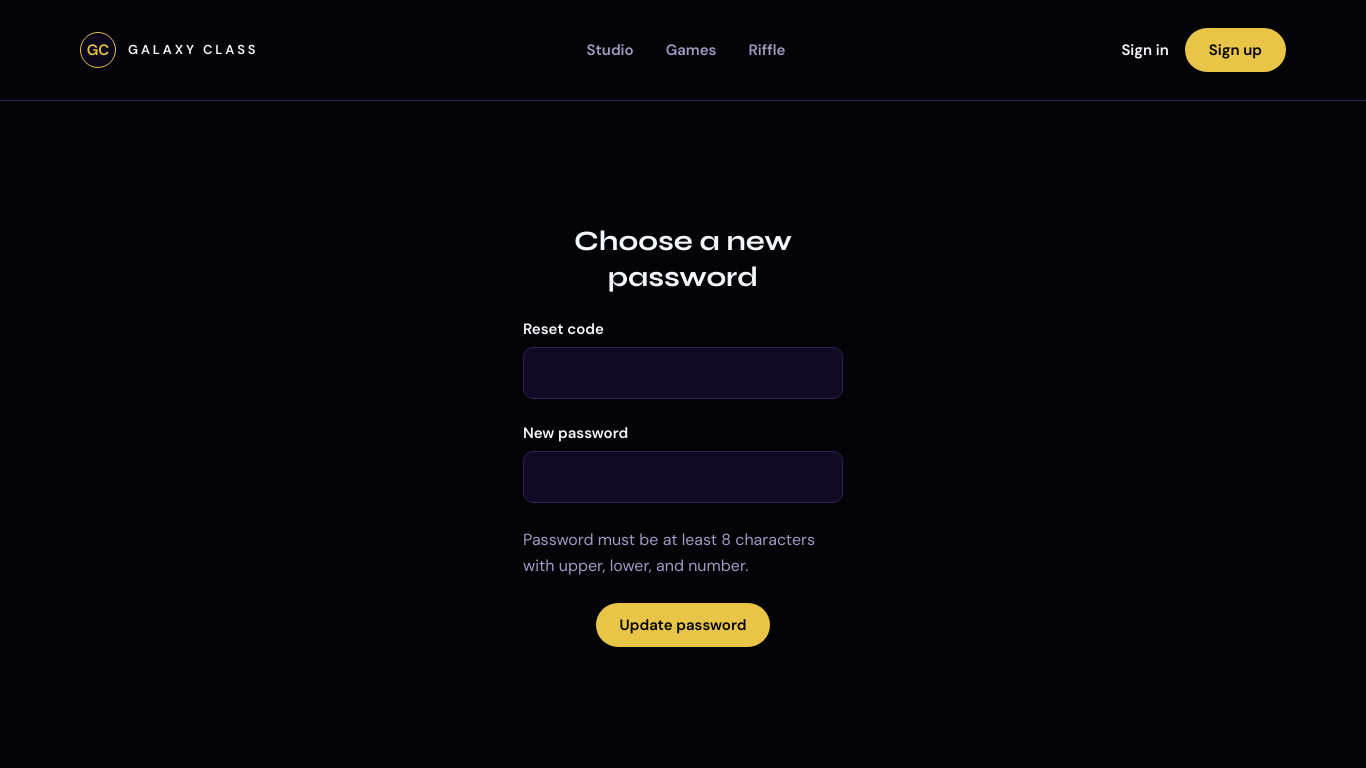
forgot and reset password › shows a validation error for a weak new password
The image size is (1366, 768).
Type "654321" into the field labelled "Reset code".
click(683, 372); type("654321")  # box x1=523 y1=346 x2=843 y2=398
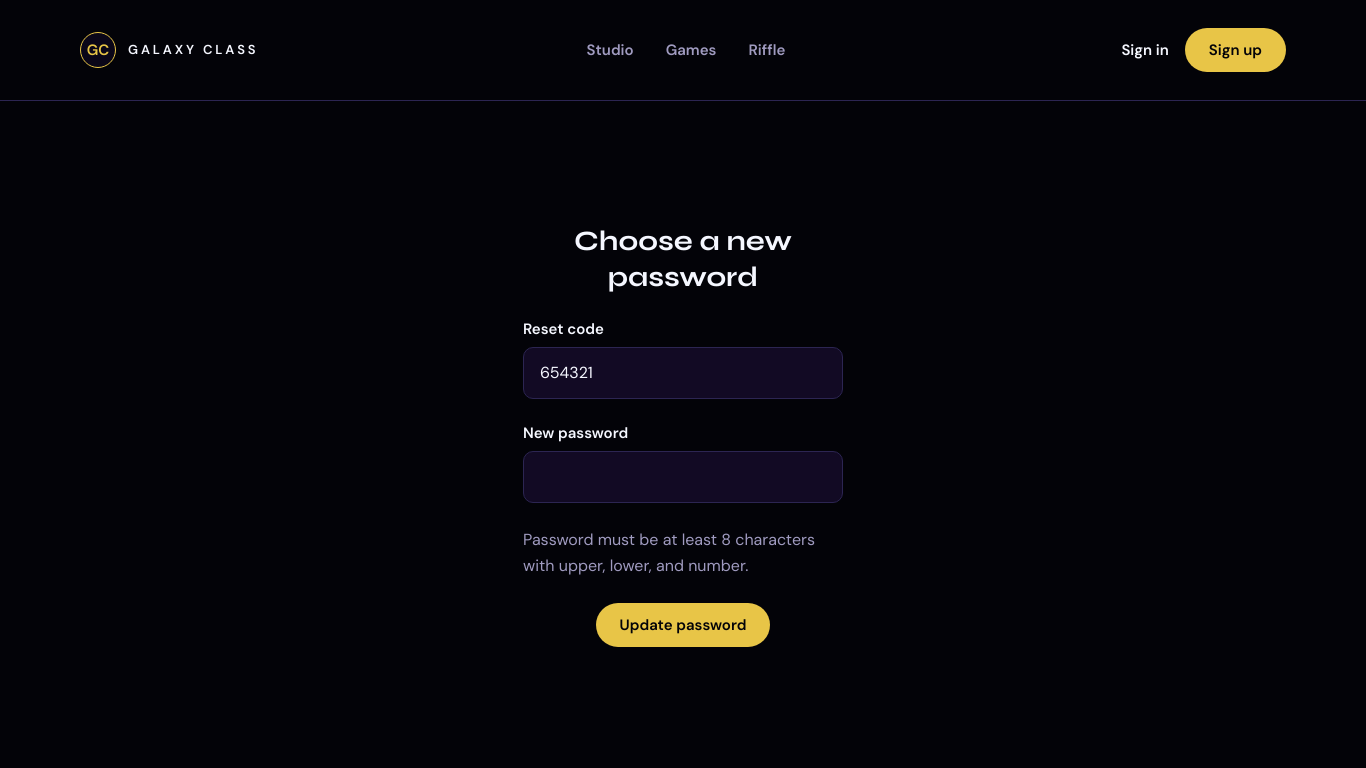
Type "short" into the password field labelled "New password".
click(683, 476); type("short")  # box x1=523 y1=450 x2=843 y2=502
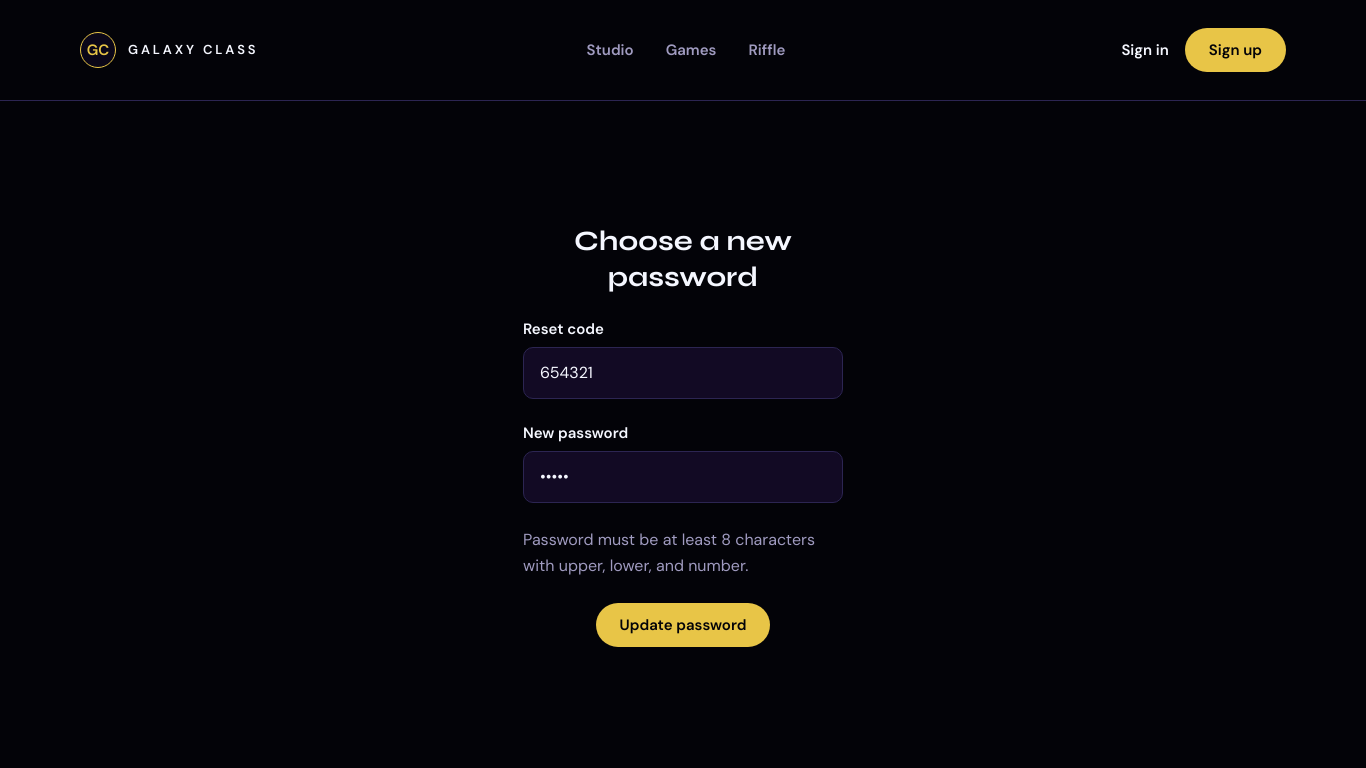
Click the button "Update password".
click(683, 624)  # box x1=596 y1=602 x2=770 y2=646
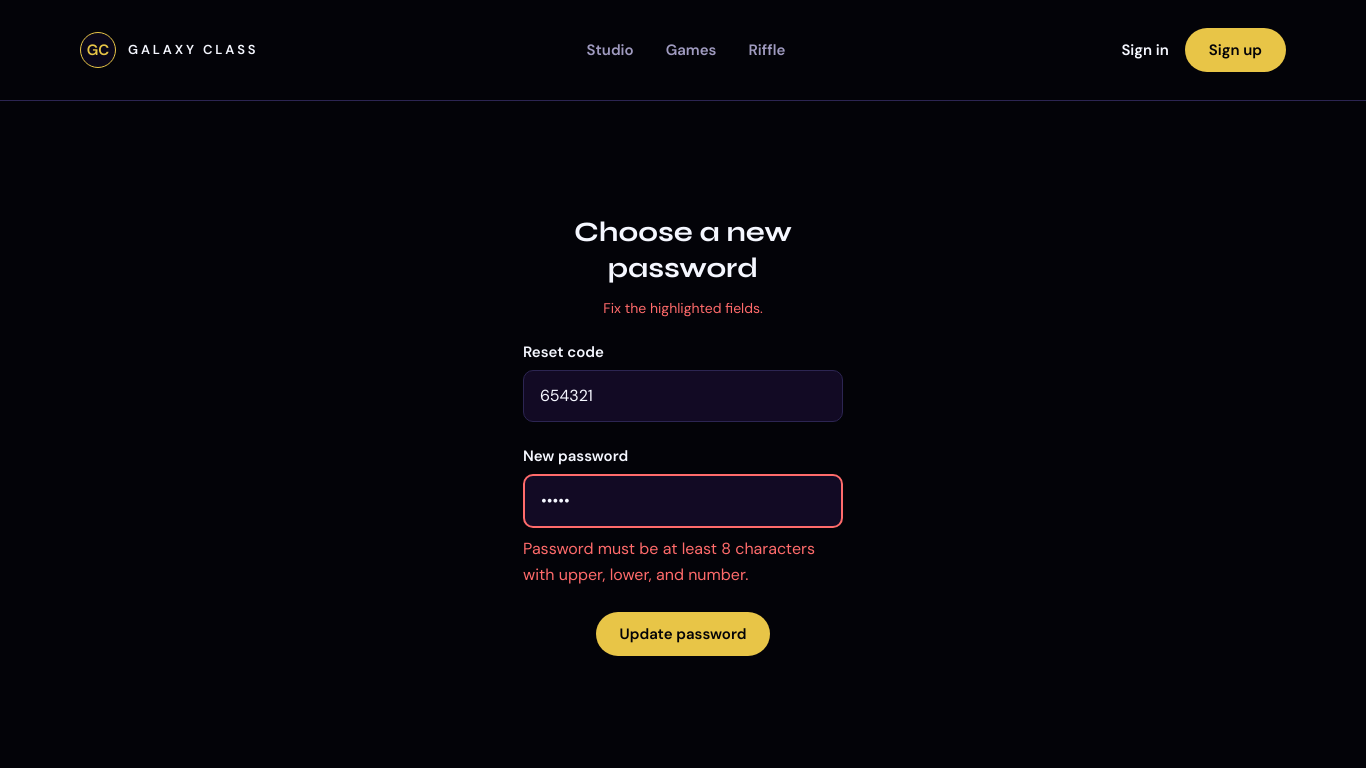
Result: the message reads "Fix the highlighted fields." at x1=603 y1=298 x2=763 y2=316
